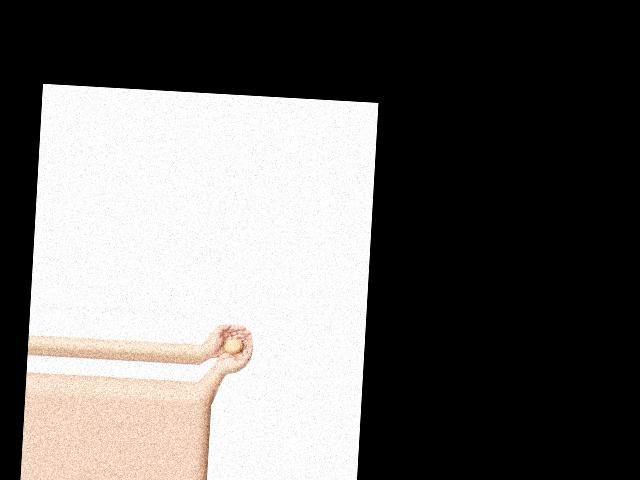egg: (224, 338, 242, 354)
